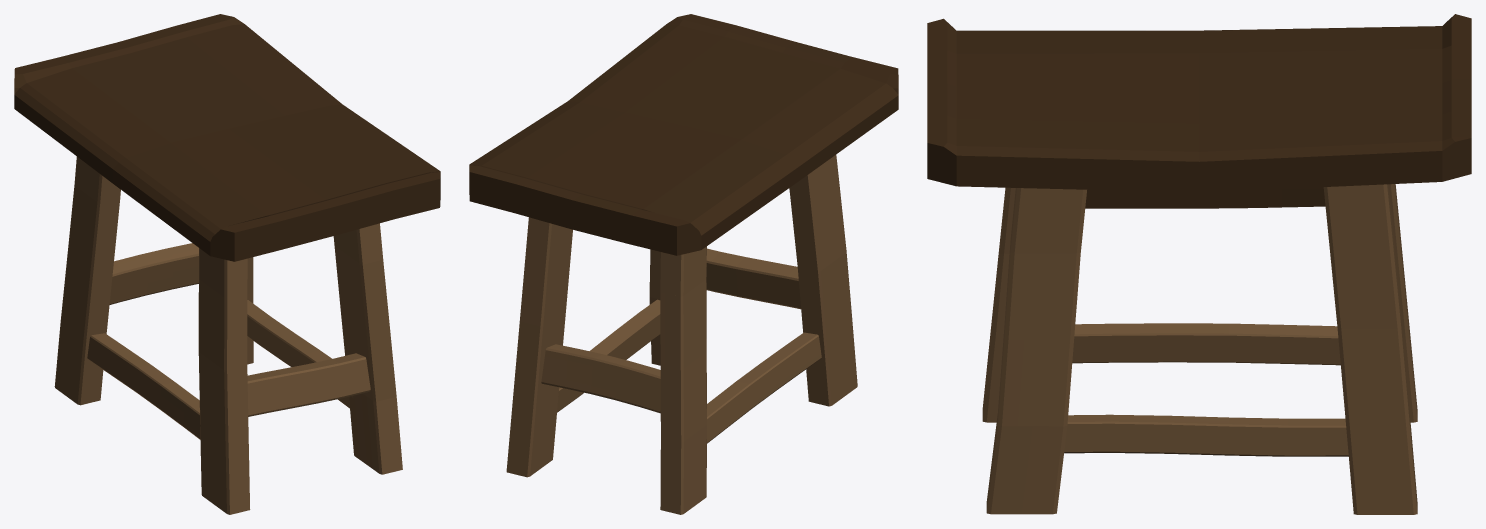
Rendered from Stool.fbx.
3 views of the same model, side by side, from view 1: azimuth 30°, elevation 25°; view 2: azimuth 150°, elevation 25°; view 3: azimuth 270°, elevation 25° (orthographic). The views are drawn at different scales.
Visible parts, largest first — view 1: Cube; view 2: Cube; view 3: Cube.
Boxes of the visible parts, x1,y1,x2,y2 form: Cube: [14, 14, 440, 514]; Cube: [469, 14, 898, 514]; Cube: [927, 14, 1471, 514].
Size of the model in its own units: 163 by 210 by 269.
